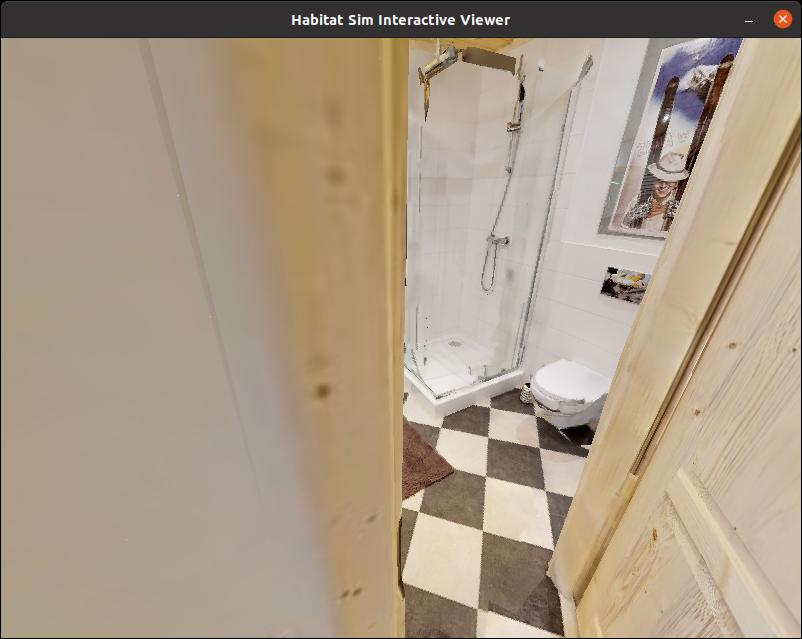door-frame: (379, 37, 781, 639)
shower: (401, 34, 531, 413)
toilet: (519, 337, 614, 440)
